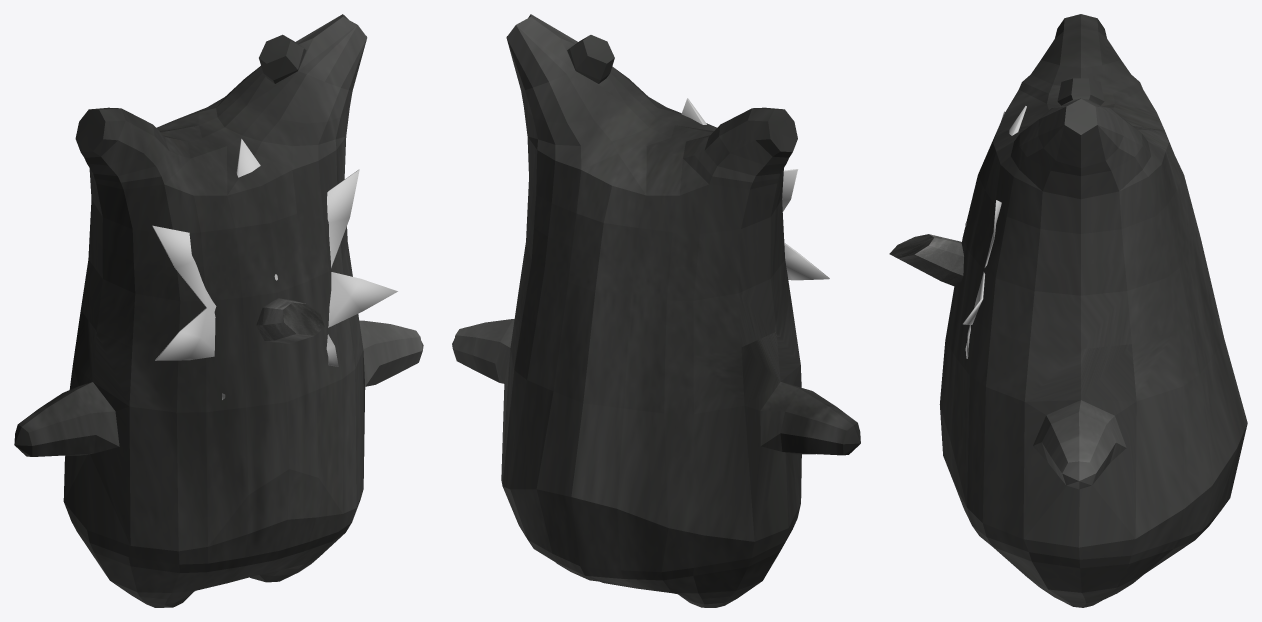
File: frame_0038.obj
3 views of the same model, side by side, from view 1: azimuth 30°, elevation 25°; view 2: azimuth 150°, elevation 25°; view 3: azimuth 270°, elevation 25° (orthographic).
Visible parts, largest first — view 1: korok, leaf.003_柱体.013, nose.003_柱体.011; view 2: korok, leaf.003_柱体.013; view 3: korok, nose.003_柱体.011, leaf.003_柱体.013.
Part boxes in pixels (x1,y1,x2,y2): korok: [14, 14, 423, 607]; leaf.003_柱体.013: [152, 139, 397, 399]; nose.003_柱体.011: [256, 298, 324, 343]; korok: [452, 14, 860, 607]; leaf.003_柱体.013: [681, 98, 829, 280]; korok: [939, 14, 1247, 607]; nose.003_柱体.011: [889, 234, 963, 287]; leaf.003_柱体.013: [963, 106, 1026, 358].
Bounding box in the file's own units: 1.77 × 2.26 × 1.36.
